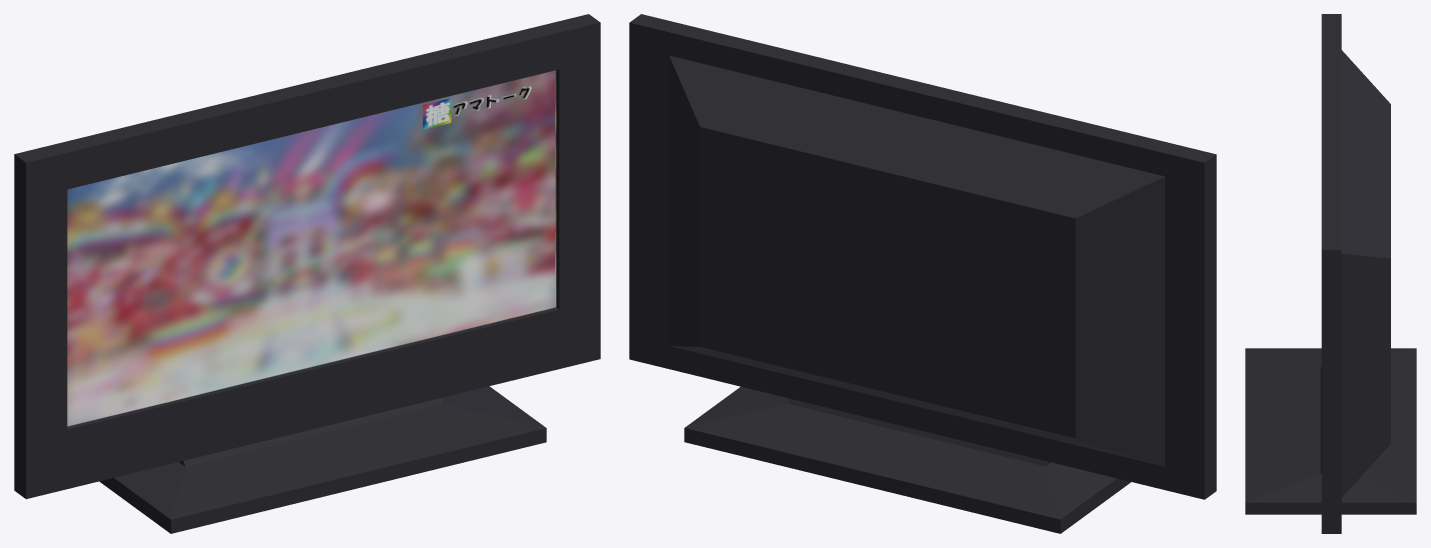
The picture shows the model from 3 angles, left to right: view 1: azimuth 30°, elevation 25°; view 2: azimuth 150°, elevation 25°; view 3: azimuth 270°, elevation 25°; orthographic projection. The views are drawn at different scales.
Parts seen in each view (by area): view 1: TV; view 2: TV; view 3: TV.
Boxes of the visible parts, <box> form: TV: <box>14,14,600,533</box>; TV: <box>629,14,1216,533</box>; TV: <box>1245,14,1416,533</box>.
Size of the model in its own units: 91.75 by 55.28 by 28.13.
